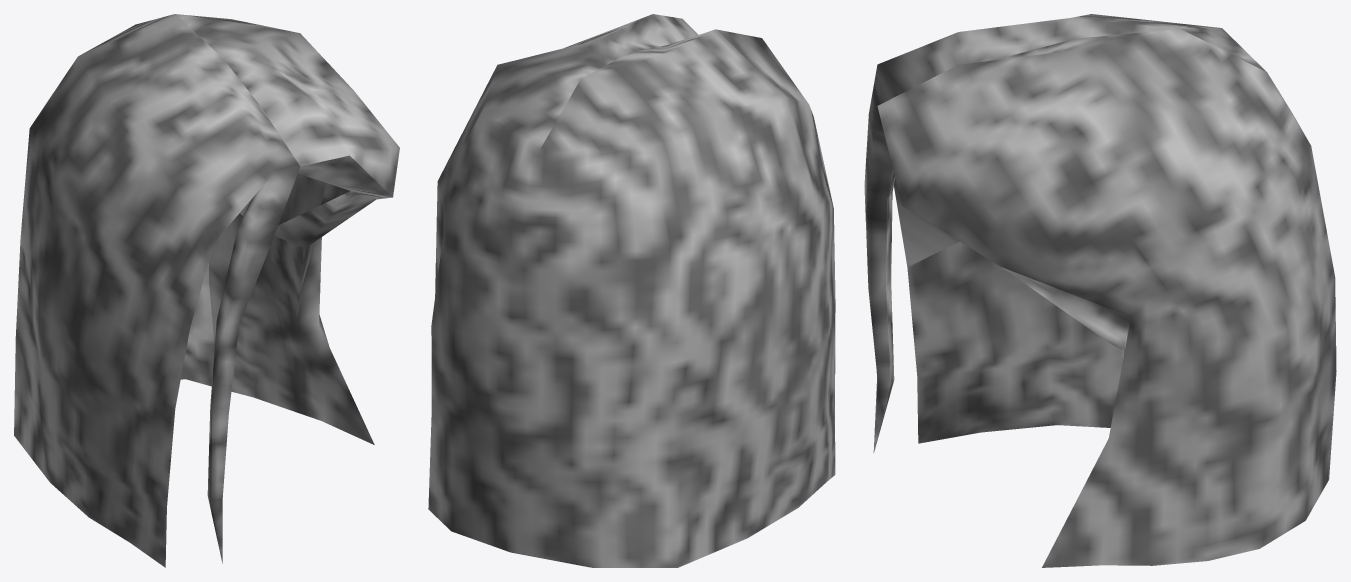
The model's file is Wig_Kate_Hair_Grungey02.fbx.
3 renders of one model, left to right at view 1: azimuth 30°, elevation 25°; view 2: azimuth 150°, elevation 25°; view 3: azimuth 270°, elevation 25°, orthographic. The views are drawn at different scales.
Visible parts, largest first — view 1: BoxOfJars003; view 2: BoxOfJars003; view 3: BoxOfJars003.
Part boxes in pixels (x1=…): BoxOfJars003: x1=14, y1=14, x2=399, y2=567; BoxOfJars003: x1=428, y1=14, x2=835, y2=567; BoxOfJars003: x1=864, y1=14, x2=1336, y2=567.
Size of the model in its own units: 11.84 by 16.62 by 14.7.
